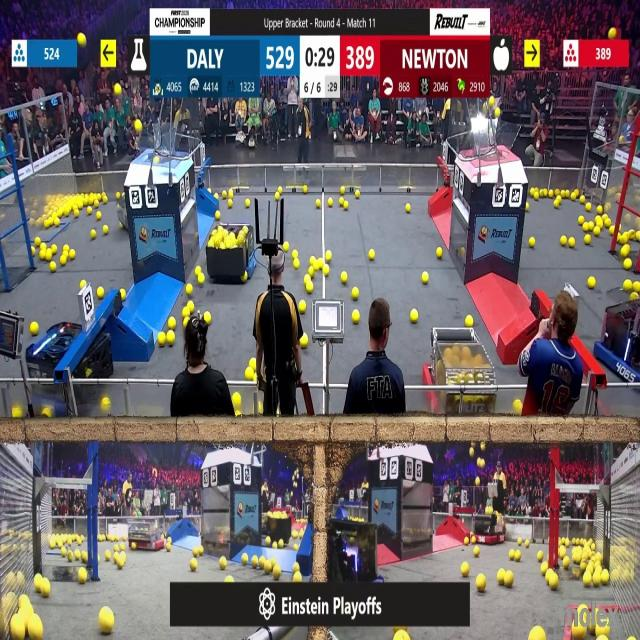ball_airborne: (134, 119, 142, 131), (77, 34, 85, 46), (608, 29, 616, 40), (114, 85, 121, 96), (479, 458, 485, 468), (474, 478, 480, 487), (490, 97, 495, 107), (495, 108, 500, 117), (472, 446, 477, 455), (482, 444, 486, 452)
ball_ground: (100, 611, 113, 636), (530, 628, 544, 640), (478, 576, 487, 594), (549, 574, 559, 589), (503, 570, 512, 586), (41, 582, 49, 599), (77, 568, 86, 583), (233, 393, 242, 407), (594, 571, 602, 586), (12, 408, 21, 421), (461, 562, 469, 576), (515, 400, 523, 414), (497, 570, 505, 584), (102, 397, 110, 411), (601, 570, 609, 584), (30, 322, 39, 334), (167, 333, 175, 346), (352, 311, 360, 324), (274, 565, 282, 578), (204, 312, 212, 325), (159, 334, 167, 347), (584, 573, 592, 586), (42, 409, 51, 420), (412, 310, 419, 324), (246, 367, 254, 379), (298, 302, 305, 315), (299, 336, 306, 349), (464, 316, 472, 327), (168, 318, 176, 329), (292, 571, 300, 582), (624, 280, 632, 291), (622, 246, 630, 257), (116, 558, 124, 569), (98, 287, 105, 299), (220, 558, 227, 570), (189, 559, 196, 571), (589, 277, 596, 289), (625, 260, 632, 272), (242, 554, 249, 566), (314, 261, 321, 273), (542, 188, 552, 196), (187, 303, 195, 313), (307, 282, 314, 293), (563, 558, 570, 569), (367, 249, 374, 260), (81, 552, 88, 563), (622, 234, 629, 245), (352, 288, 358, 300), (422, 273, 428, 285), (266, 562, 272, 574), (435, 248, 442, 258), (199, 276, 206, 286), (585, 236, 592, 246), (61, 255, 68, 265), (595, 216, 602, 226), (309, 267, 316, 277), (323, 266, 329, 277), (284, 242, 290, 253), (342, 273, 348, 284), (119, 288, 125, 299), (516, 551, 522, 562), (540, 563, 546, 574), (69, 250, 76, 259), (594, 226, 601, 235), (507, 551, 514, 560), (631, 291, 638, 300), (530, 188, 537, 197), (186, 284, 192, 294), (529, 238, 535, 248), (568, 238, 574, 248), (250, 358, 256, 368), (561, 237, 567, 247), (293, 261, 299, 271), (252, 557, 258, 567), (182, 308, 188, 318), (325, 251, 331, 261), (75, 551, 81, 561), (192, 545, 198, 555), (39, 250, 45, 260), (634, 282, 640, 292), (258, 406, 264, 416), (243, 274, 249, 284), (45, 251, 51, 261), (604, 217, 610, 227), (578, 562, 584, 572), (559, 549, 565, 559), (225, 575, 232, 583), (306, 274, 313, 282), (596, 207, 603, 215), (50, 264, 56, 273), (316, 200, 322, 209), (577, 215, 583, 224), (472, 546, 478, 555), (194, 267, 200, 276), (537, 553, 543, 562), (182, 318, 188, 327), (407, 204, 413, 213), (74, 209, 80, 218), (293, 563, 299, 572), (266, 536, 272, 545), (320, 253, 326, 262), (53, 243, 58, 253), (64, 246, 69, 256), (132, 542, 138, 550), (292, 250, 298, 258), (88, 207, 94, 215), (244, 200, 250, 208), (167, 542, 173, 550), (536, 194, 542, 202), (570, 192, 576, 200), (61, 550, 67, 558), (291, 531, 297, 539), (94, 201, 100, 209), (92, 231, 97, 240), (215, 211, 220, 220), (609, 225, 614, 234), (584, 222, 589, 231), (35, 238, 40, 247), (200, 545, 205, 554), (618, 234, 622, 245), (236, 412, 242, 419), (586, 205, 592, 212), (293, 543, 299, 550), (98, 534, 104, 541), (278, 186, 284, 193), (104, 224, 108, 234), (227, 200, 232, 208), (327, 200, 332, 208), (555, 200, 560, 208), (119, 542, 124, 550), (97, 212, 102, 220), (340, 199, 345, 207), (311, 256, 316, 264), (341, 186, 346, 194), (525, 204, 530, 212), (113, 553, 118, 561), (304, 185, 309, 193), (222, 190, 227, 198), (279, 539, 284, 547), (68, 551, 72, 561), (56, 218, 61, 226), (525, 539, 530, 547), (106, 552, 110, 561), (80, 280, 84, 289), (32, 247, 36, 256), (636, 233, 640, 242), (355, 190, 360, 197), (470, 537, 475, 544), (273, 541, 278, 548), (579, 198, 584, 205), (116, 191, 120, 199), (276, 192, 280, 200), (345, 203, 349, 211), (215, 194, 219, 202), (104, 197, 108, 205), (168, 536, 173, 542), (464, 537, 468, 544), (114, 543, 118, 550)
goal: (465, 120, 521, 160), (127, 130, 187, 160)
robot_blue: (23, 323, 110, 414), (599, 297, 640, 384), (206, 222, 257, 282), (332, 520, 378, 581)
robot_red: (420, 327, 496, 411), (474, 506, 509, 544), (128, 515, 166, 550)
